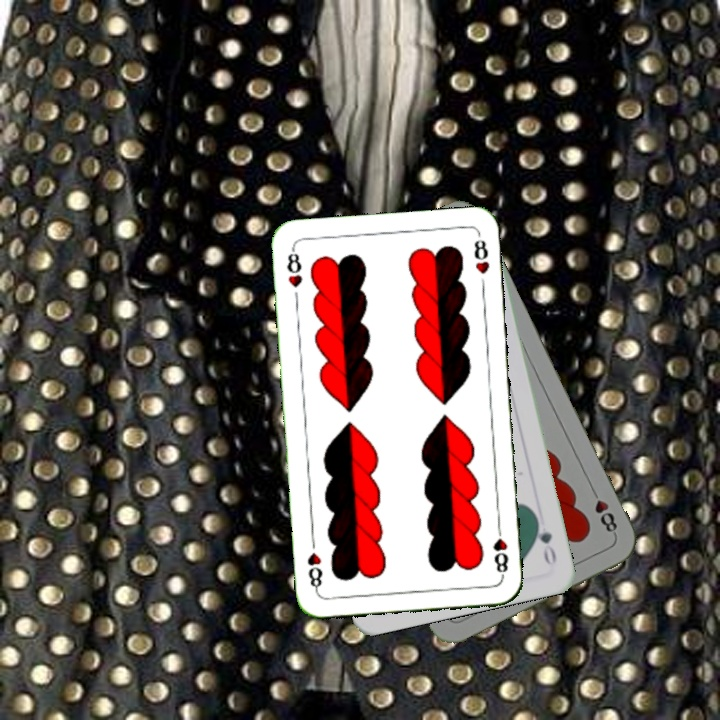GO: (531, 512, 559, 569)
H8: (586, 483, 620, 539), (489, 521, 511, 580), (282, 244, 305, 290)
